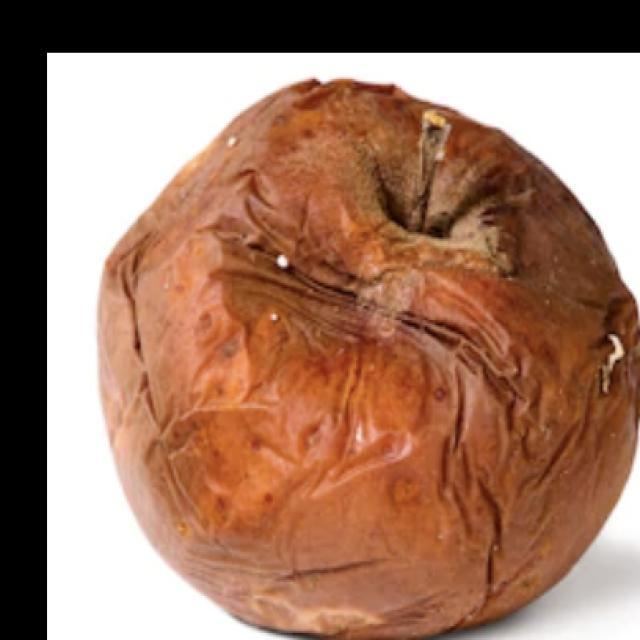Rotten: (96, 72, 640, 640)
